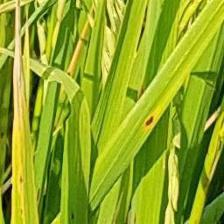0 BrownSpot: (141, 111, 156, 129)
